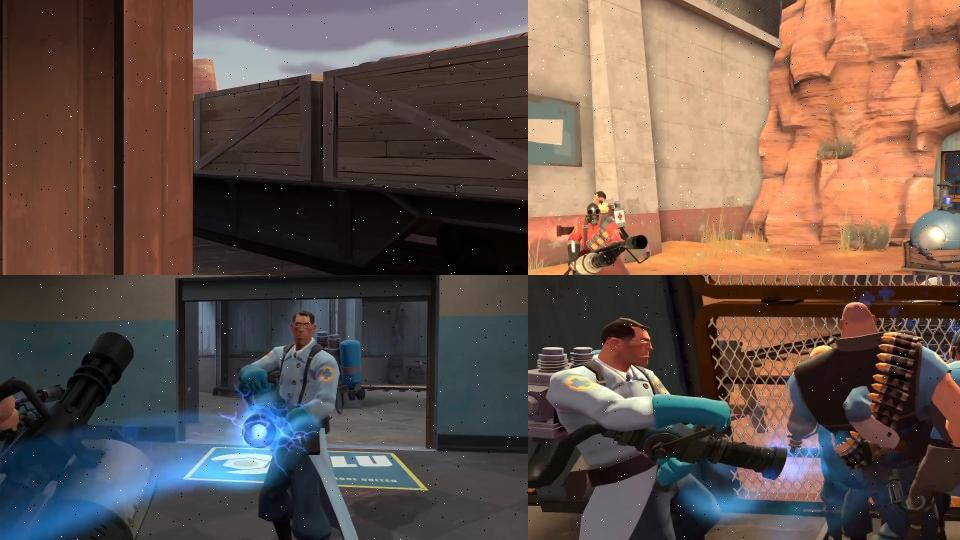Enemy: (528, 317, 787, 540), (0, 275, 161, 540), (784, 301, 960, 540), (233, 307, 367, 540), (918, 323, 960, 540), (554, 202, 648, 275), (556, 190, 634, 275)
